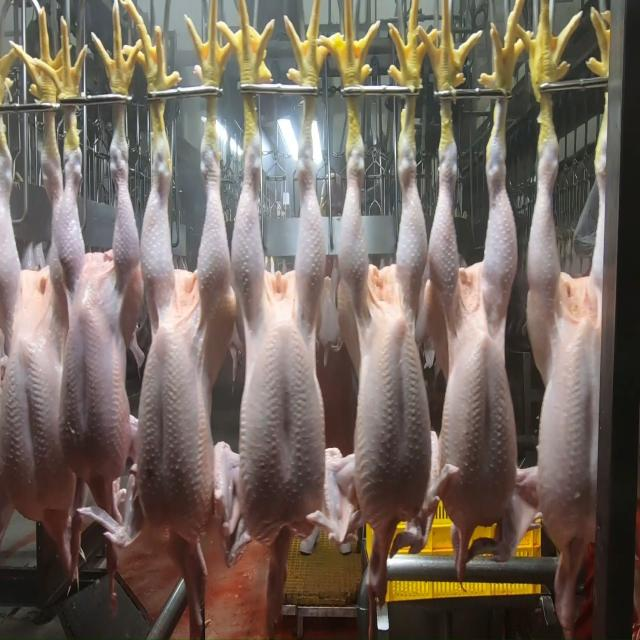chicken: (231, 127, 333, 551), (133, 118, 234, 541), (433, 87, 515, 554), (340, 142, 434, 520), (526, 123, 608, 543), (0, 141, 78, 535), (57, 148, 136, 504)
